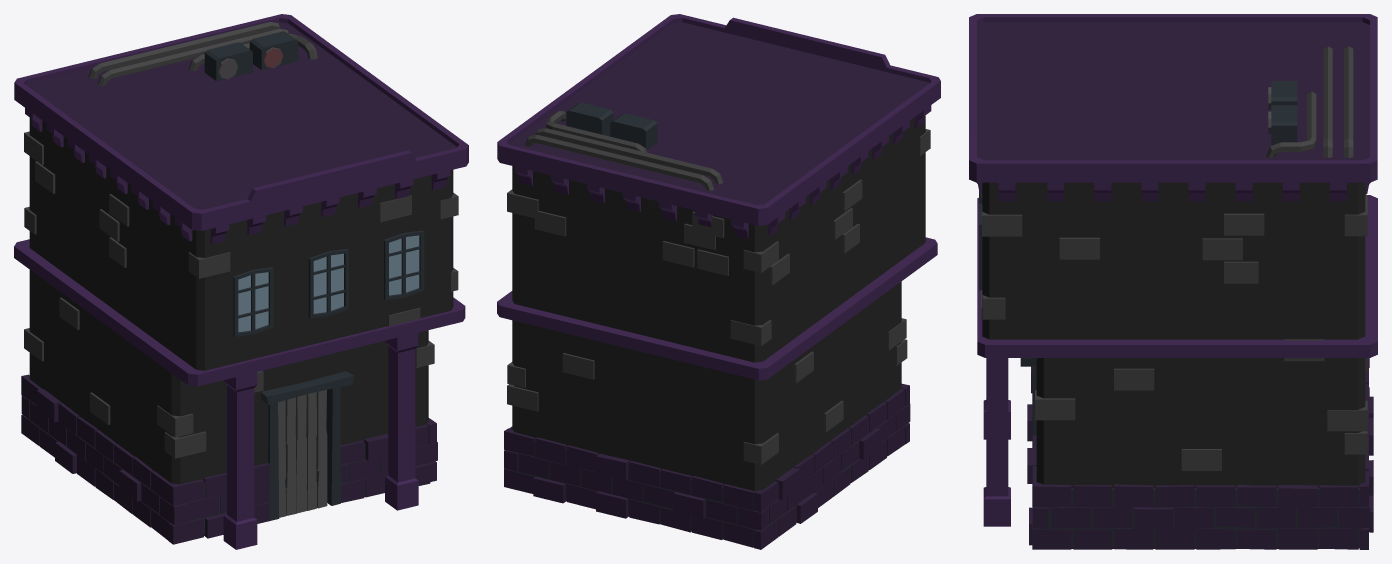
Rendered from 2Story Columns.glb.
The picture shows the model from 3 angles, left to right: view 1: azimuth 30°, elevation 25°; view 2: azimuth 150°, elevation 25°; view 3: azimuth 270°, elevation 25°; orthographic projection. The views are drawn at different scales.
Parts seen in each view (by area): view 1: 2Story_Columns; view 2: 2Story_Columns; view 3: 2Story_Columns.
Boxes of the visible parts, box(x1,y1,x2,y2) form: 2Story_Columns: box(14, 14, 468, 549); 2Story_Columns: box(497, 14, 940, 549); 2Story_Columns: box(969, 14, 1377, 549).
Size of the model in its own units: 5.18 by 6.64 by 5.97.
Materials: 1 (1 with a texture image).
